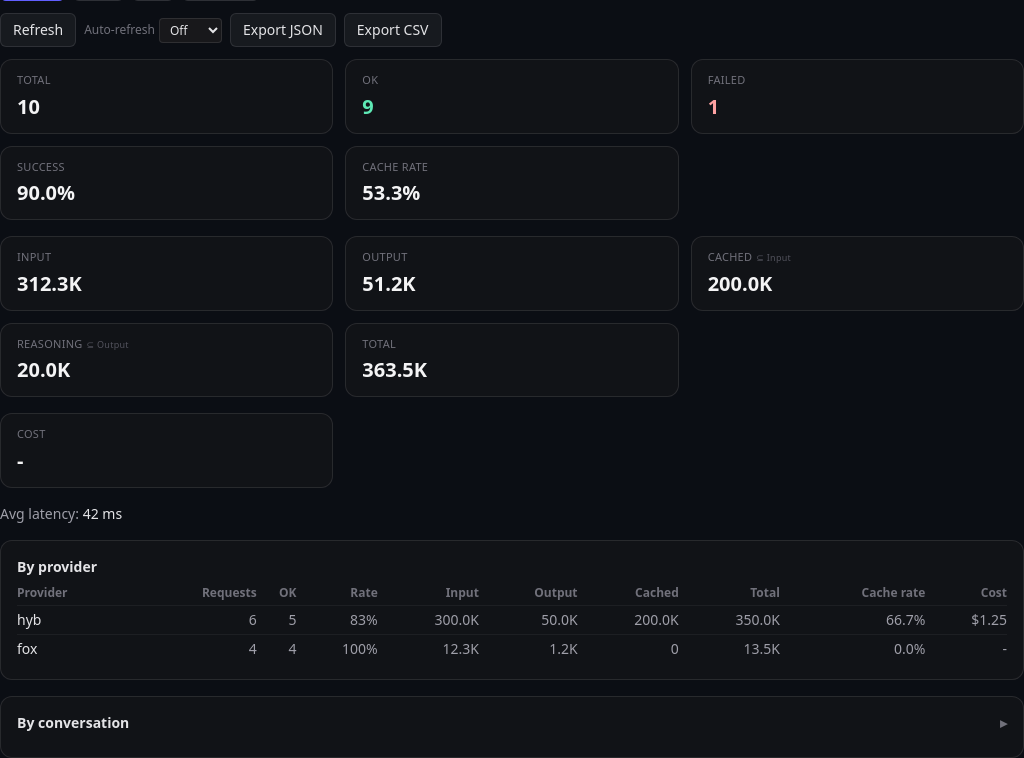
Scenario: StatsPanel › shows an error state when loading conversation requests fails
(page scrolled)
expect the text "363.5K" is shown: met, box [362, 356, 427, 383]
Click the button "By conversation ▸" at point(73, 722), box [17, 712, 1007, 732]
(page scrolled)
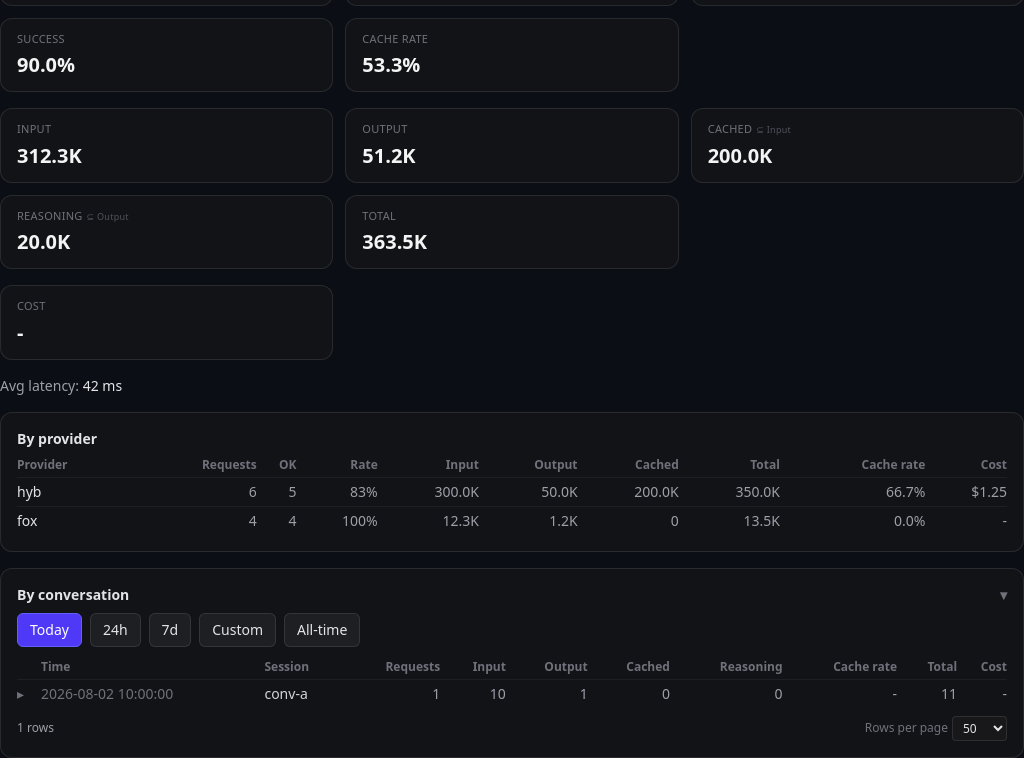
expect the table named "By conversation" is shown: met, box [17, 658, 1007, 708]
Click the button named "Expand conversation conv-a" at point(20, 694), box [17, 684, 24, 704]
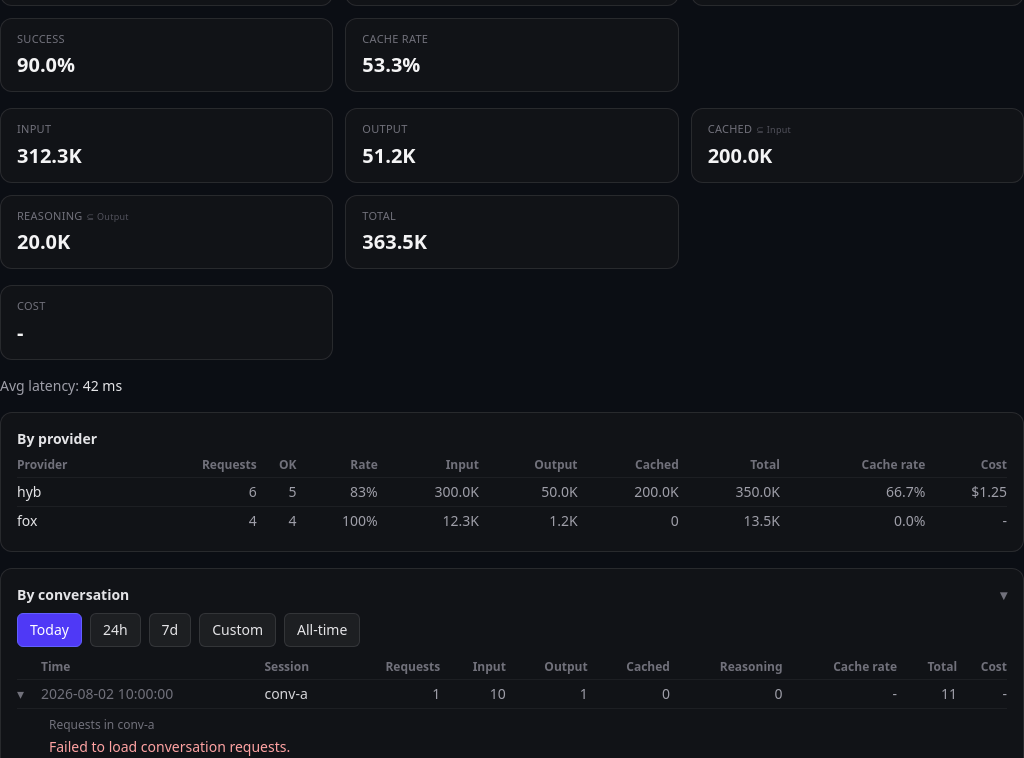
expect the text "Failed to load conversation requests." is shown: met, box [49, 736, 290, 756]
